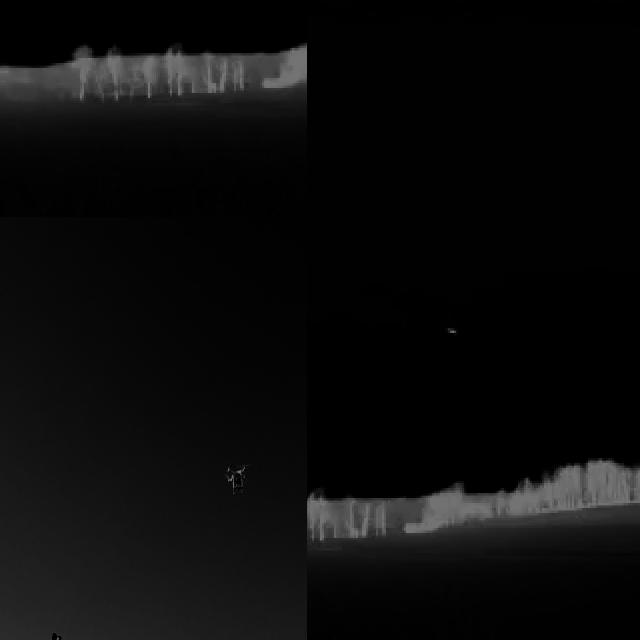1: (430, 313, 474, 361)
drone: (221, 454, 251, 496)
